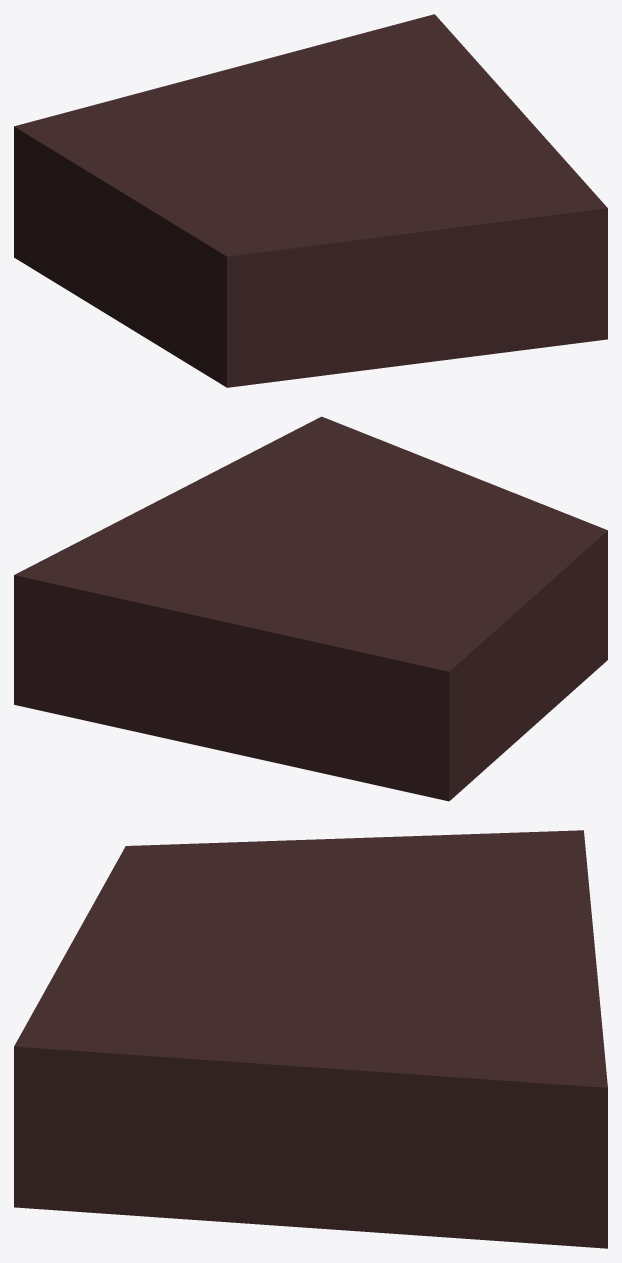
Rendered from Rock2.FBX.
3 renders of one model, top to bottom at view 1: azimuth 30°, elevation 25°; view 2: azimuth 150°, elevation 25°; view 3: azimuth 270°, elevation 25°, orthographic. The views are drawn at different scales.
Visible parts, largest first — view 1: Box002; view 2: Box002; view 3: Box002.
Boxes of the visible parts, <box> form: Box002: <box>14,14,607,387</box>; Box002: <box>14,416,607,801</box>; Box002: <box>14,830,607,1248</box>.
Bounding box in the file's own units: 6.87 × 2 × 6.7.
